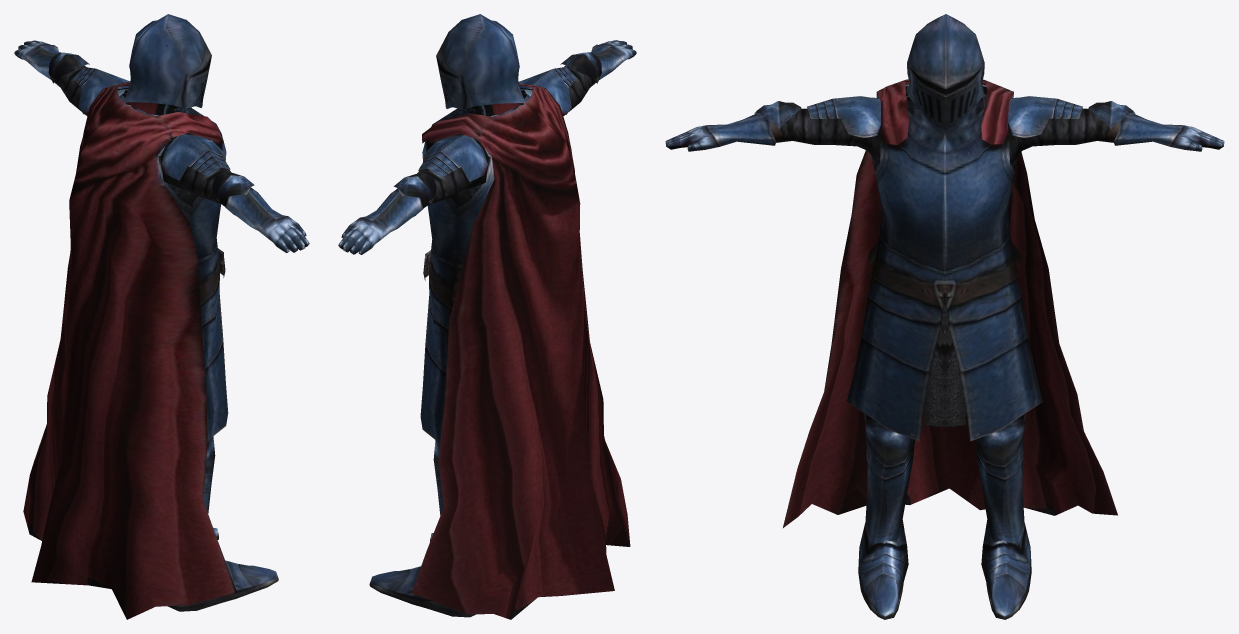
Rendered from kni1.glb.
The picture shows the model from 3 angles, left to right: view 1: azimuth 30°, elevation 25°; view 2: azimuth 150°, elevation 25°; view 3: azimuth 270°, elevation 25°; orthographic projection.
Visible parts, largest first — view 1: KNI1; view 2: KNI1; view 3: KNI1.
Part boxes in pixels (x1,y1,x2,y2): KNI1: (14, 14, 309, 619); KNI1: (338, 14, 636, 619); KNI1: (665, 14, 1224, 619).
Size of the model in its own units: 1.86 by 4.66 by 4.17.
Materials: 3 (3 with a texture image).
